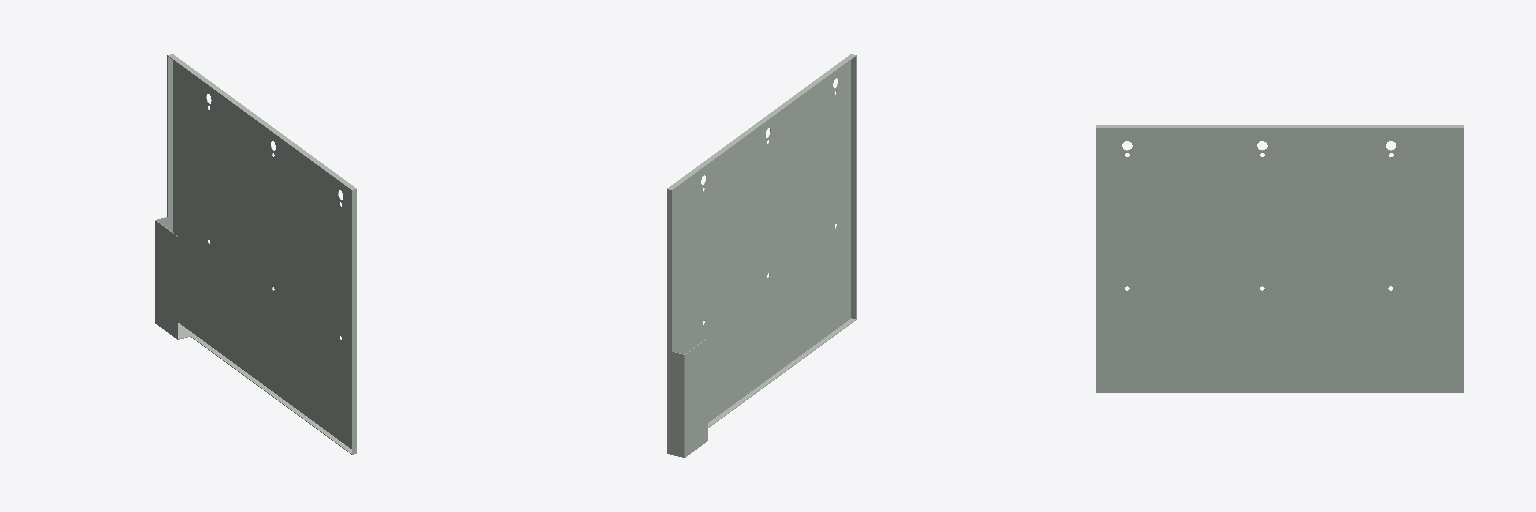
Rendered from zaklad.obj.
3 renders of one model, left to right at view 1: azimuth 30°, elevation 25°; view 2: azimuth 150°, elevation 25°; view 3: azimuth 270°, elevation 25°, orthographic.
Visible parts, largest first — view 1: Cube.045_Cube.061; view 2: Cube.045_Cube.061; view 3: Cube.045_Cube.061.
Part boxes in pixels (left/top/right/bottom): Cube.045_Cube.061: left=155, top=54, right=356, bottom=454; Cube.045_Cube.061: left=667, top=54, right=856, bottom=457; Cube.045_Cube.061: left=1096, top=125, right=1463, bottom=392.
Size of the model in its own units: 0.34 by 4.75 by 6.